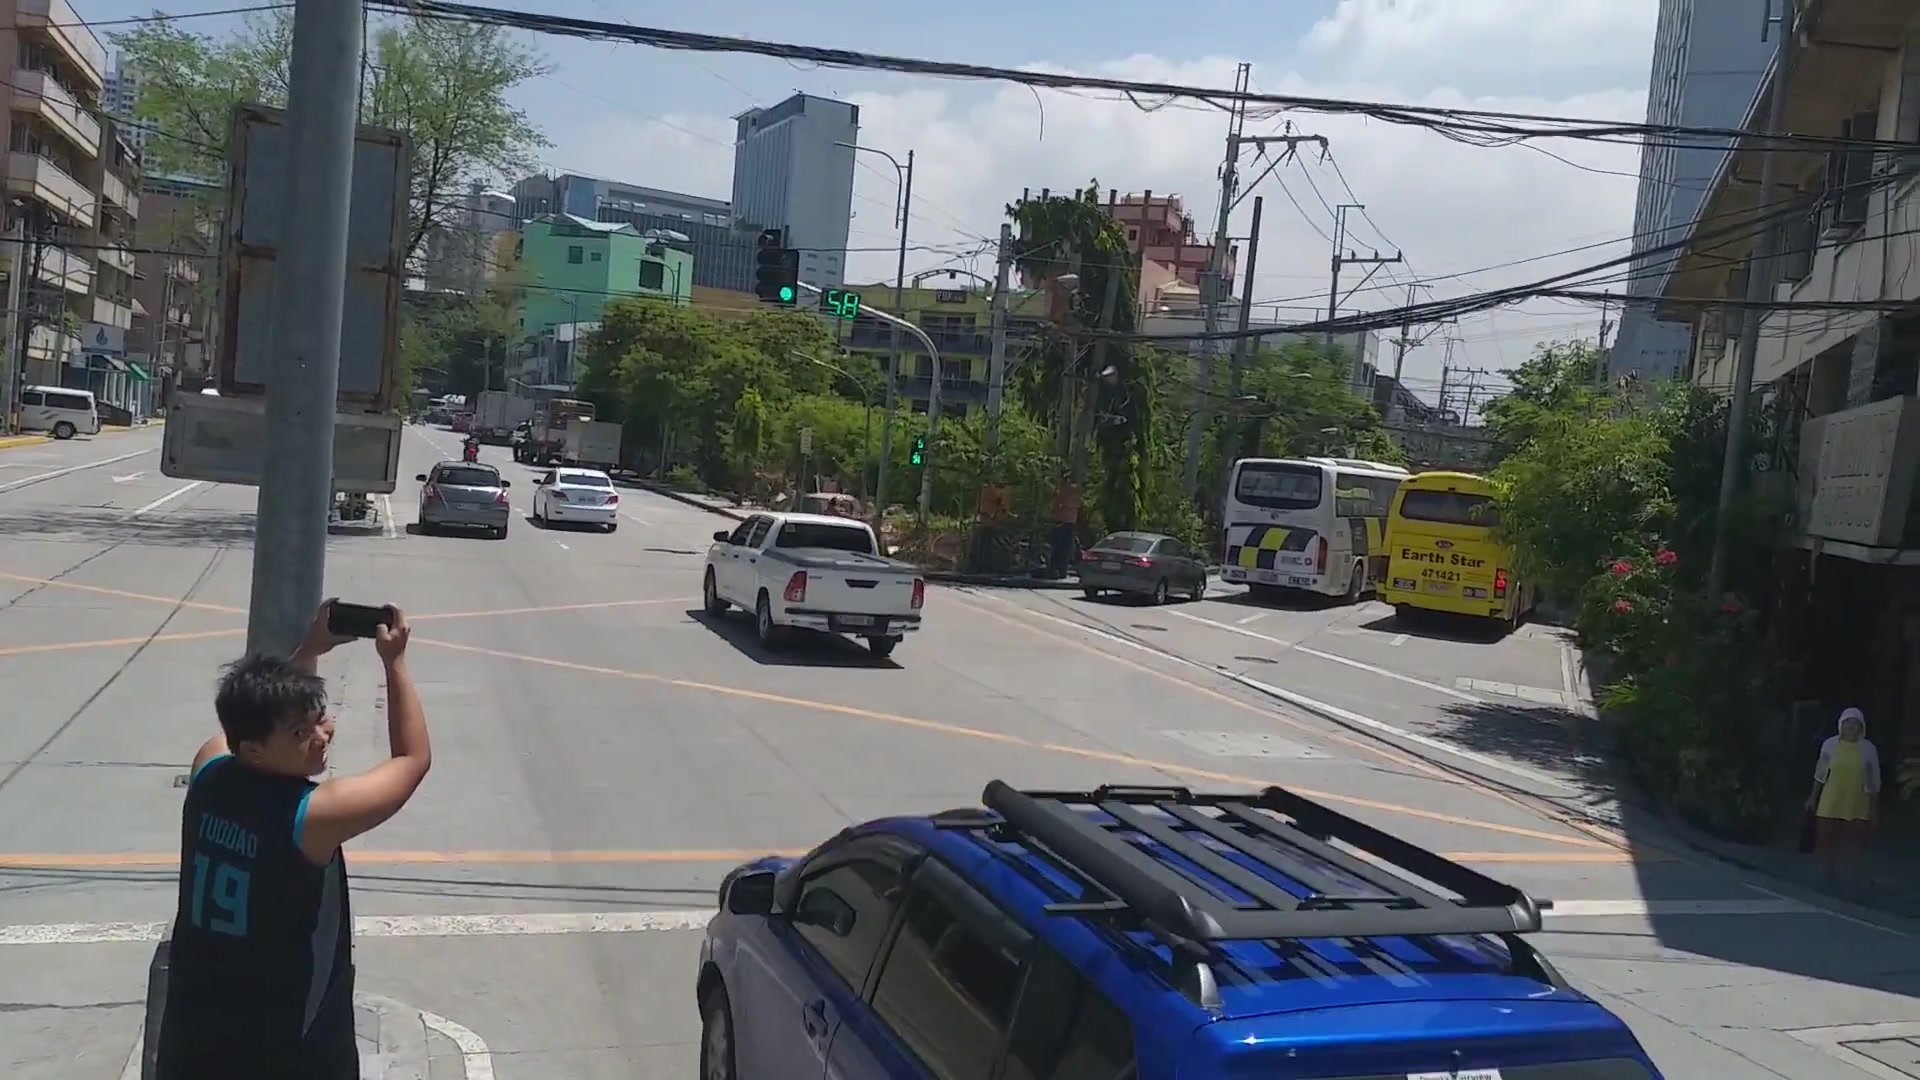car: (692, 511, 934, 674), (413, 459, 516, 543), (534, 468, 631, 535)
plate number: (823, 611, 884, 634), (574, 493, 608, 511), (454, 501, 489, 516)
